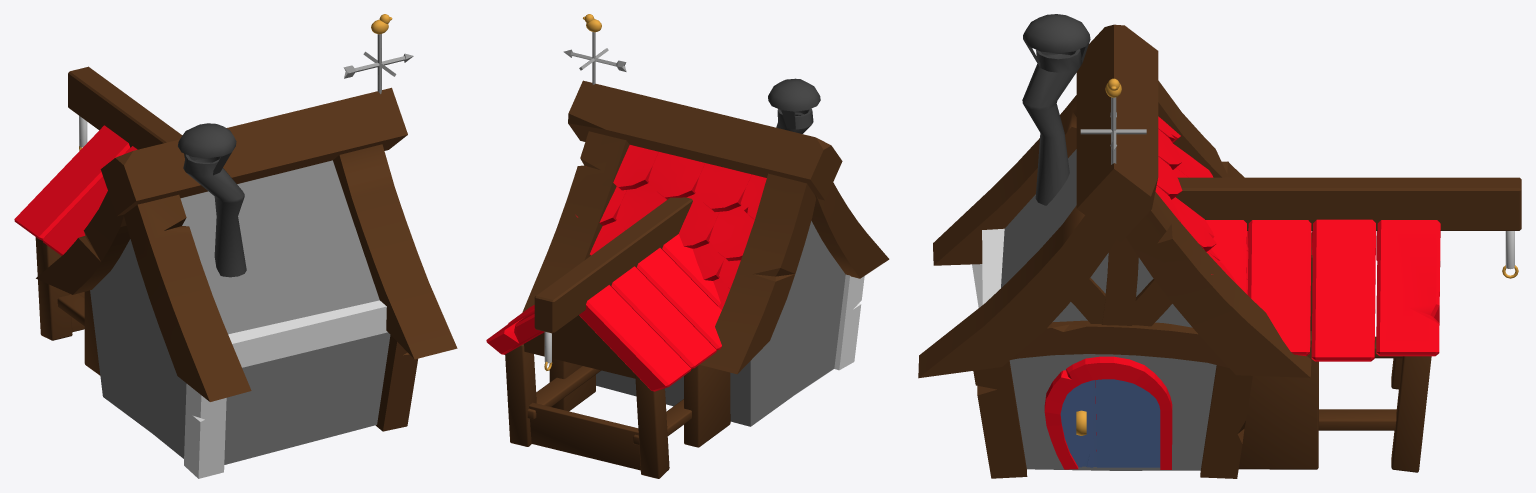
Rendered from House.fbx.
3 views of the same model, side by side, from view 1: azimuth 30°, elevation 25°; view 2: azimuth 150°, elevation 25°; view 3: azimuth 270°, elevation 25° (orthographic). The views are drawn at different scales.
Parts seen in each view (by area): view 1: PAREDES, Cubo.008, Cube.005, Cube.013, Cubo.009, Cylinder.008, Cube.007, Cubo.013, Cubo.003, Cube.009, Cube.015, Cube.014 (+1 smaller); view 2: Cubo.008, Cube.013, Cube.005, Cube.003, PAREDES, Cube.007, Cube.009, Cube.011, Cube.014, Cube.012, Cylinder.008, Cube.010 (+2 smaller); view 3: Cubo.008, Cube.013, Cube.007, PAREDES, Cube.005, puerta, Cube.014, Cylinder.008, Cubo.001, Cubo.003, Cubo.002, Cube.009 (+7 smaller).
Part boxes in pixels (box(x1,y1,x2,y2)): PAREDES: box(90, 160, 390, 464); Cubo.008: box(36, 144, 457, 401); Cube.005: box(100, 87, 407, 216); Cube.013: box(14, 125, 137, 255); Cubo.009: box(228, 300, 387, 367); Cylinder.008: box(178, 123, 246, 277); Cube.007: box(68, 66, 182, 149); Cubo.013: box(184, 384, 226, 478); Cubo.003: box(375, 335, 417, 431); Cube.009: box(35, 237, 72, 340); Cube.015: box(343, 14, 413, 93); Cube.014: box(84, 290, 100, 375); Cubo.008: box(522, 131, 889, 374); Cube.013: box(486, 234, 721, 391); Cube.005: box(568, 80, 842, 200); Cube.003: box(576, 145, 766, 309); PAREDES: box(596, 221, 845, 426); Cube.007: box(534, 197, 692, 333); Cube.009: box(505, 344, 669, 478); Cube.011: box(529, 402, 640, 470); Cube.014: box(549, 358, 730, 447); Cube.012: box(523, 315, 635, 378); Cylinder.008: box(768, 78, 820, 133); Cube.010: box(527, 366, 691, 445); Cubo.008: box(918, 80, 1311, 378); Cube.013: box(1205, 219, 1440, 361); Cube.007: box(1176, 177, 1521, 230); PAREDES: box(1001, 149, 1216, 470); Cube.005: box(1076, 24, 1158, 241); puerta: box(1044, 356, 1172, 469); Cube.014: box(1238, 247, 1318, 469); Cylinder.008: box(1022, 14, 1090, 205); Cubo.001: box(1011, 320, 1228, 367); Cubo.003: box(973, 361, 1027, 478); Cubo.002: box(1200, 365, 1252, 478); Cube.009: box(1391, 356, 1431, 472).
Bounding box in the file's own units: 3.79 × 4.52 × 5.9.
